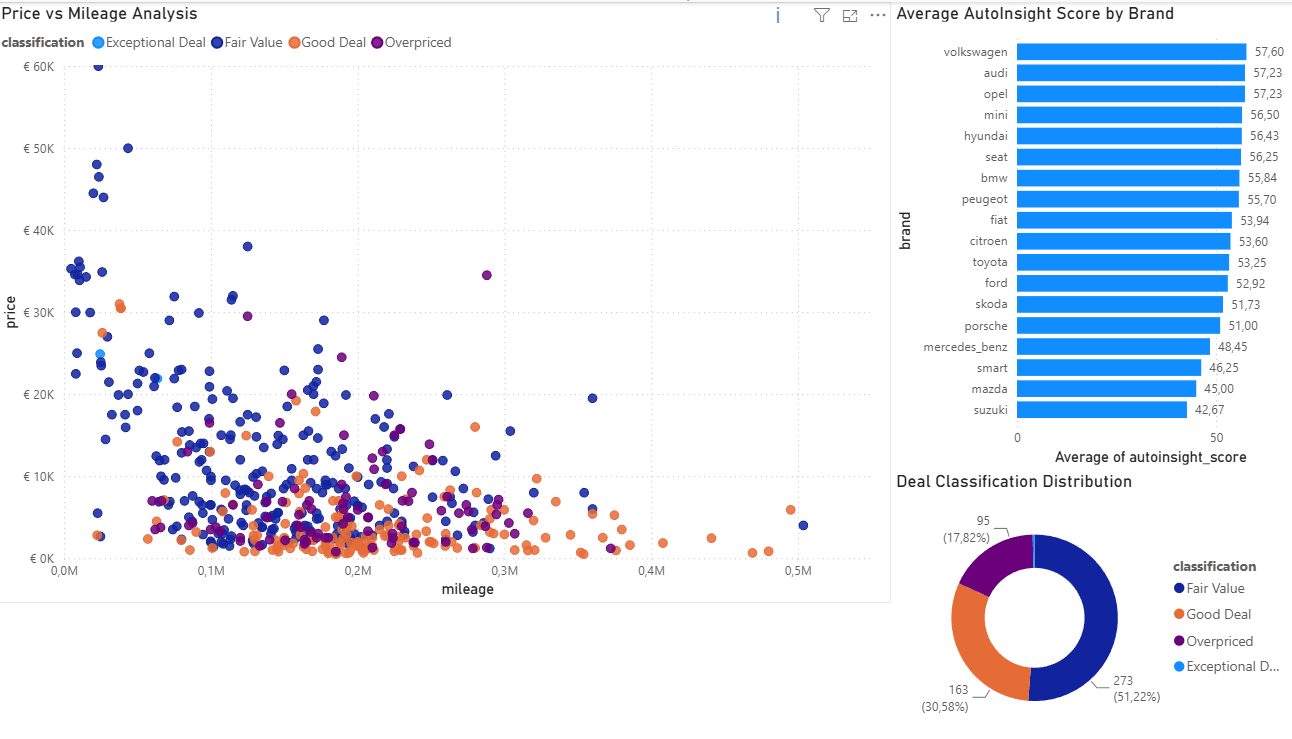

Layout of this report page (visuals, bound fields, positions):
{"tool":"powerbi","page":{"name":"Market Intelligence","canvas":[1280,720],"ordinal":2},"visuals":[{"type":"scatterChart","title":"Price vs Mileage Analysis","fields":{"X":["car_deals.mileage"],"Y":["car_deals.price"],"Series":["car_deals.classification"]},"box":[20.3,0,866.6,581.9],"z":0},{"type":"clusteredBarChart","title":"Average AutoInsight Score by Brand","fields":{"Category":["car_deals.brand"],"Y":["Avg(car_deals.autoinsight_score)"]},"box":[886.9,0,393.1,453.1],"z":1},{"type":"donutChart","title":"Deal Classification Distribution","fields":{"Category":["car_deals.classification"],"Y":["CountNonNull(car_deals.classification)"]},"box":[886.9,453.1,393.1,267.2],"z":2}]}

Visuals, with their boxes in screenshot pixels (x1, y1, x2, y2), scaled from the page's 1280x720 canvas onto the 1292x739 screenshot:
"Price vs Mileage Analysis" scatterChart: (20,0,895,597)
"Average AutoInsight Score by Brand" clusteredBarChart: (895,0,1291,465)
"Deal Classification Distribution" donutChart: (895,465,1291,738)
